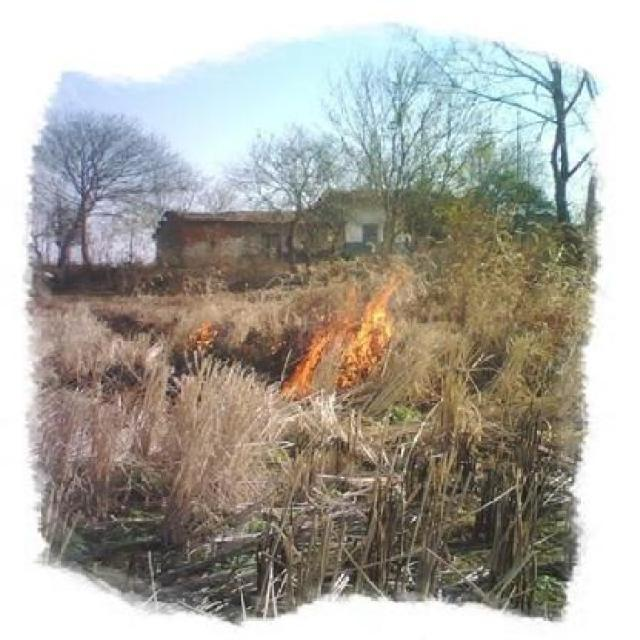Fire: (168, 262, 424, 408)
